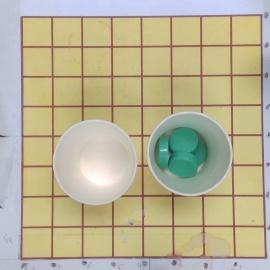cup: (51, 120, 139, 206)
cup_green: (147, 112, 234, 197)
